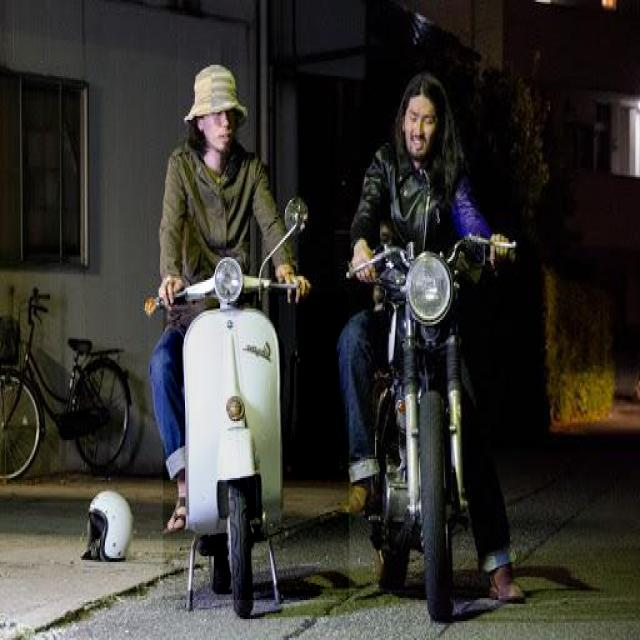Bike: (163, 293, 349, 600)
